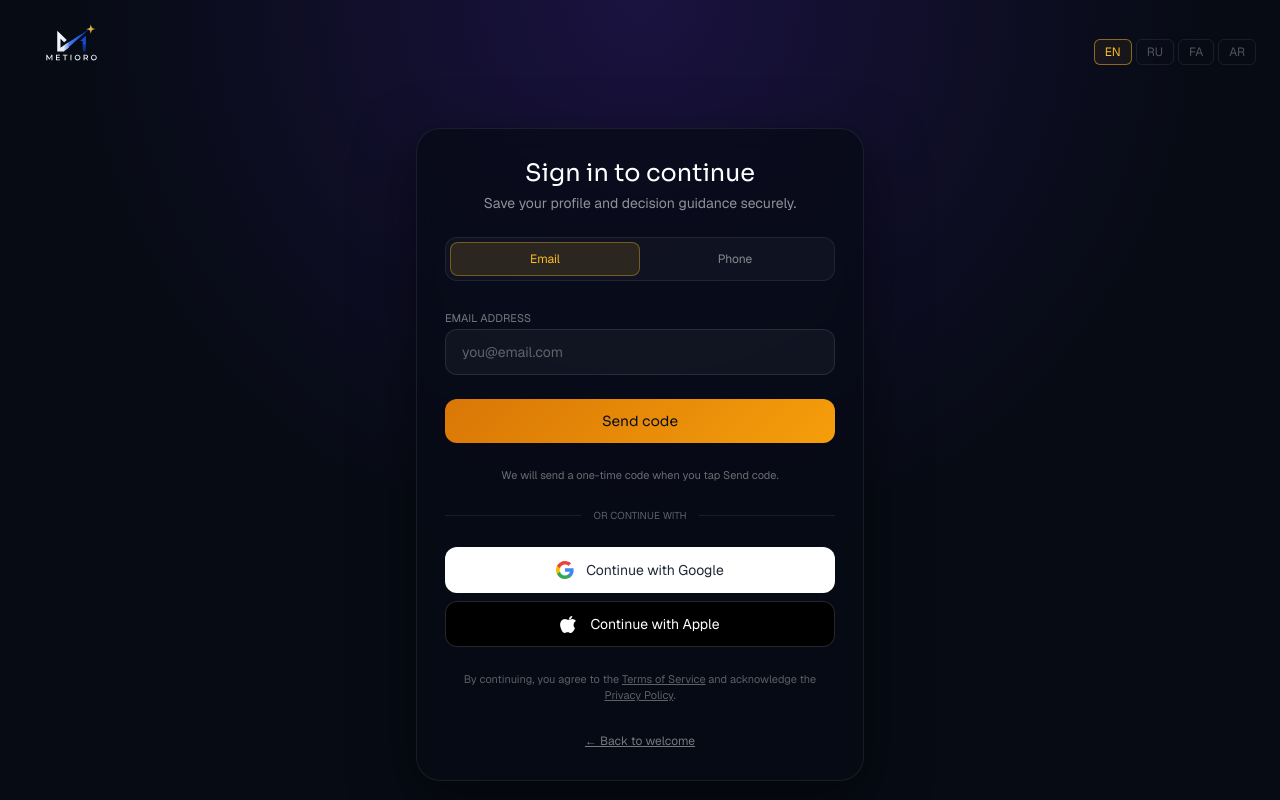
Scenario: LoginScreen › tracks oauth unavailable without signing in
This screenshot has width=1280, height=800.
Expected: the heading "Sign in to continue" is shown, [525,158,755,188]
Click the button "Continue with Google" at (640,570), box [445,546,835,592]
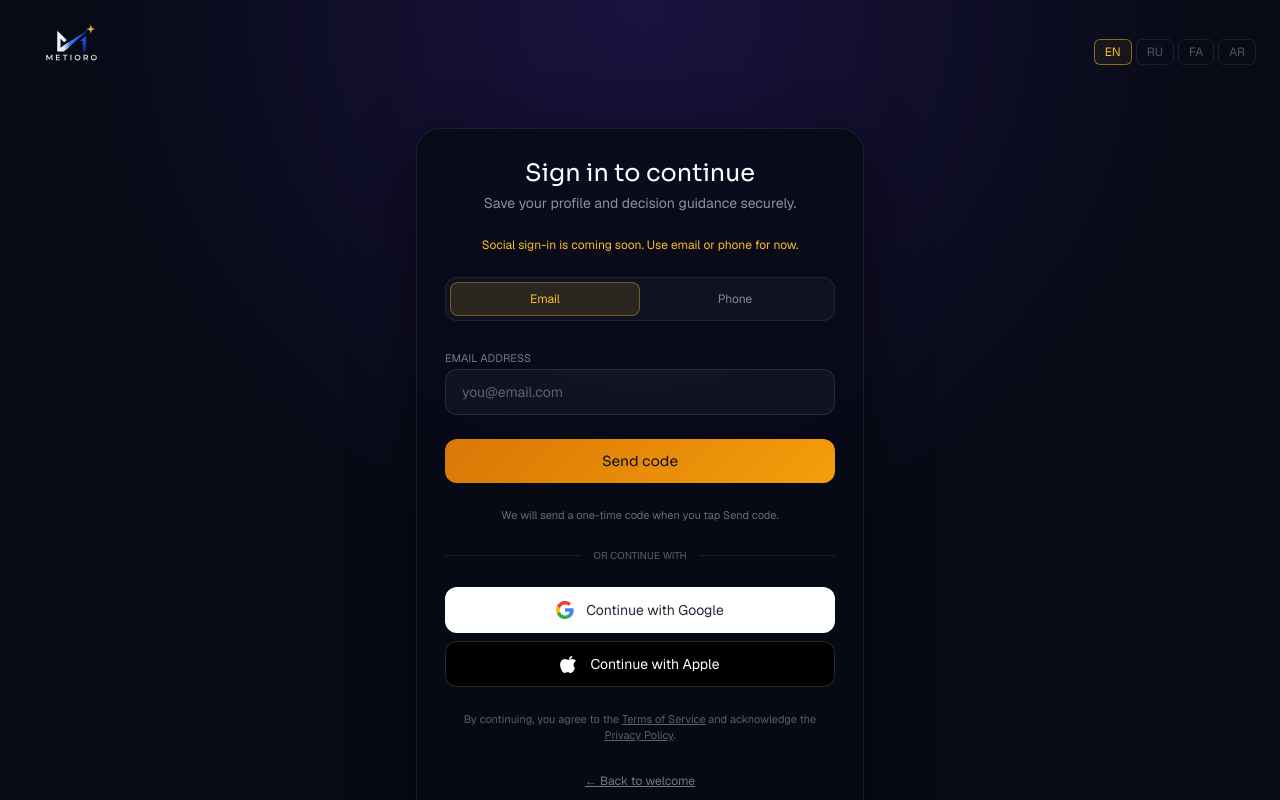
Expected: the message shows "coming soon", [482,237,798,253]
